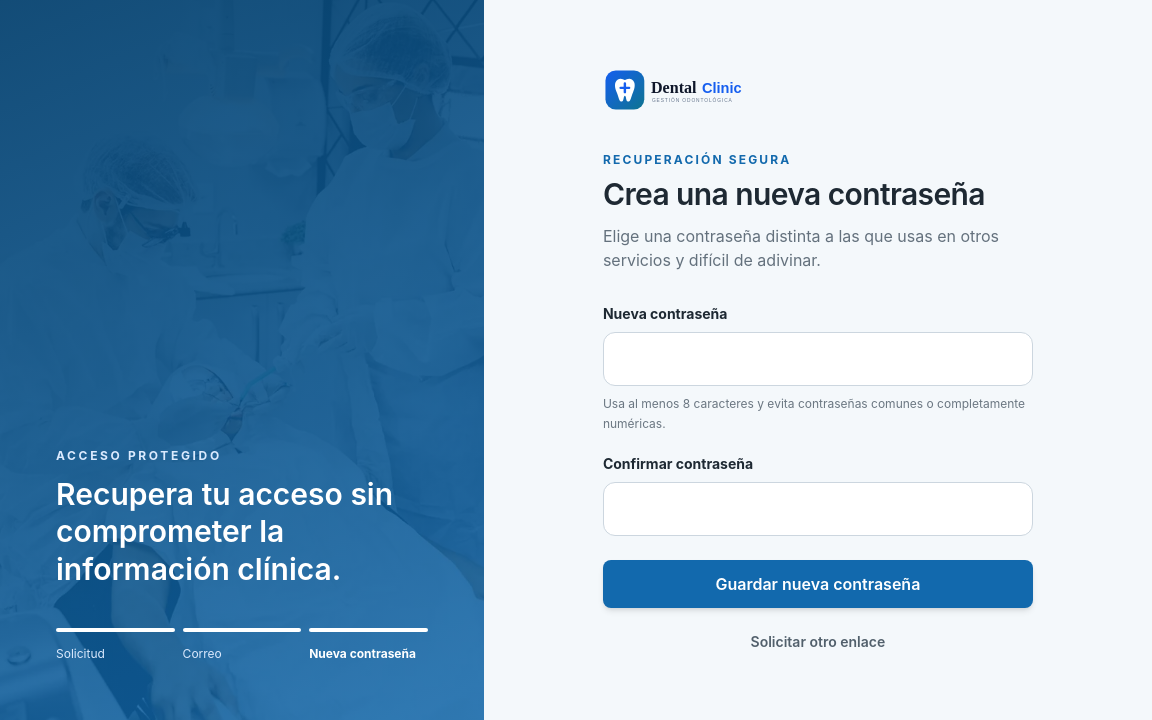
PasswordResetConfirmPage › shows a login action after resetting the password
The image size is (1152, 720).
Step 1. Type "NuevaContraseña123!" into the password field labelled "Nueva contraseña" → (818, 359), box [603, 332, 1033, 386]
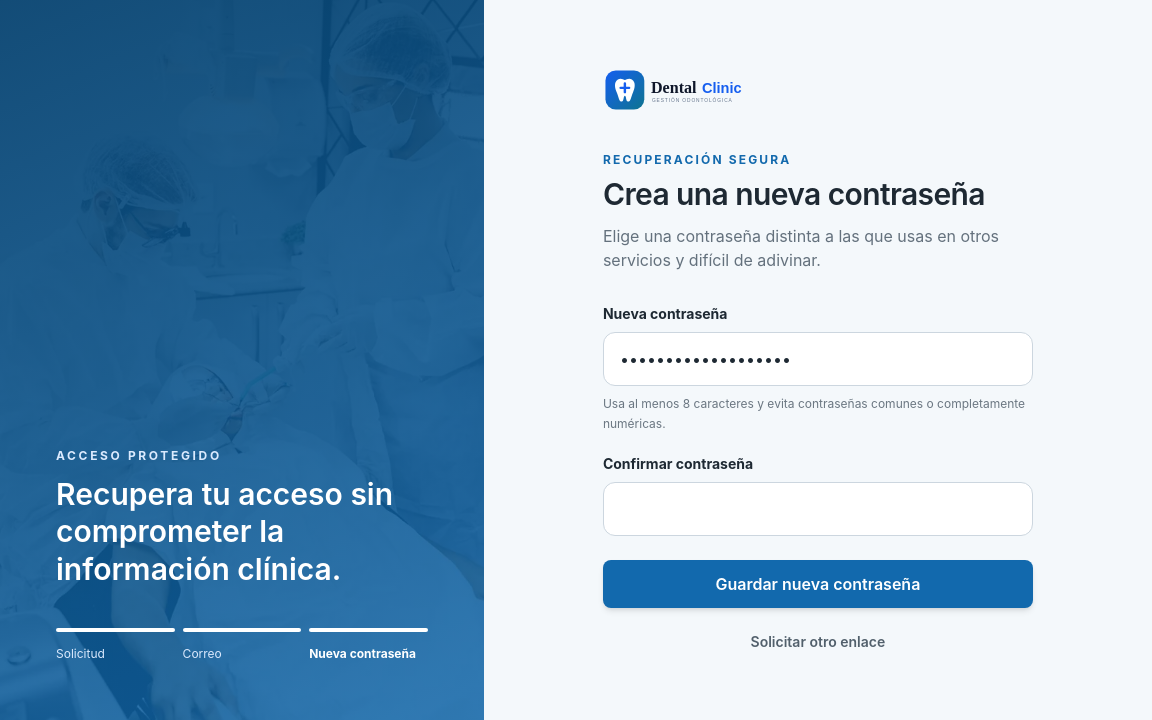
Step 2. Type "NuevaContraseña123!" into the password field labelled "Confirmar contraseña" → (818, 509), box [603, 482, 1033, 536]
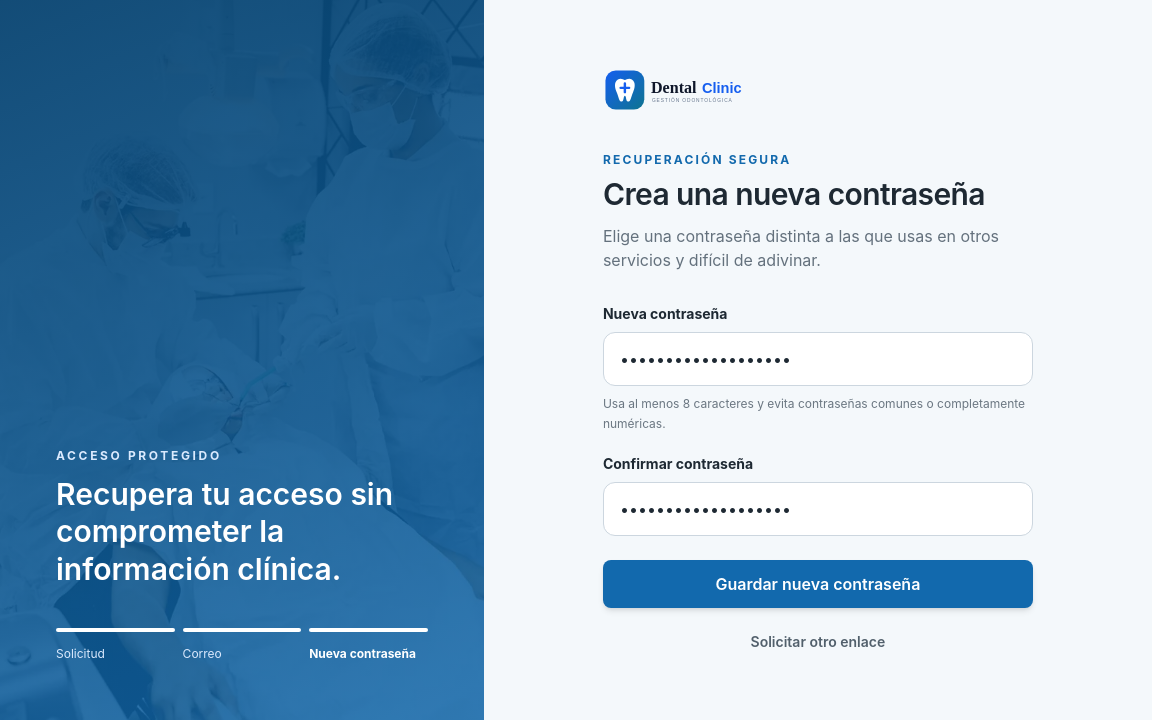
Step 3. Click the button "Guardar nueva contraseña" → (818, 584), box [603, 560, 1033, 608]
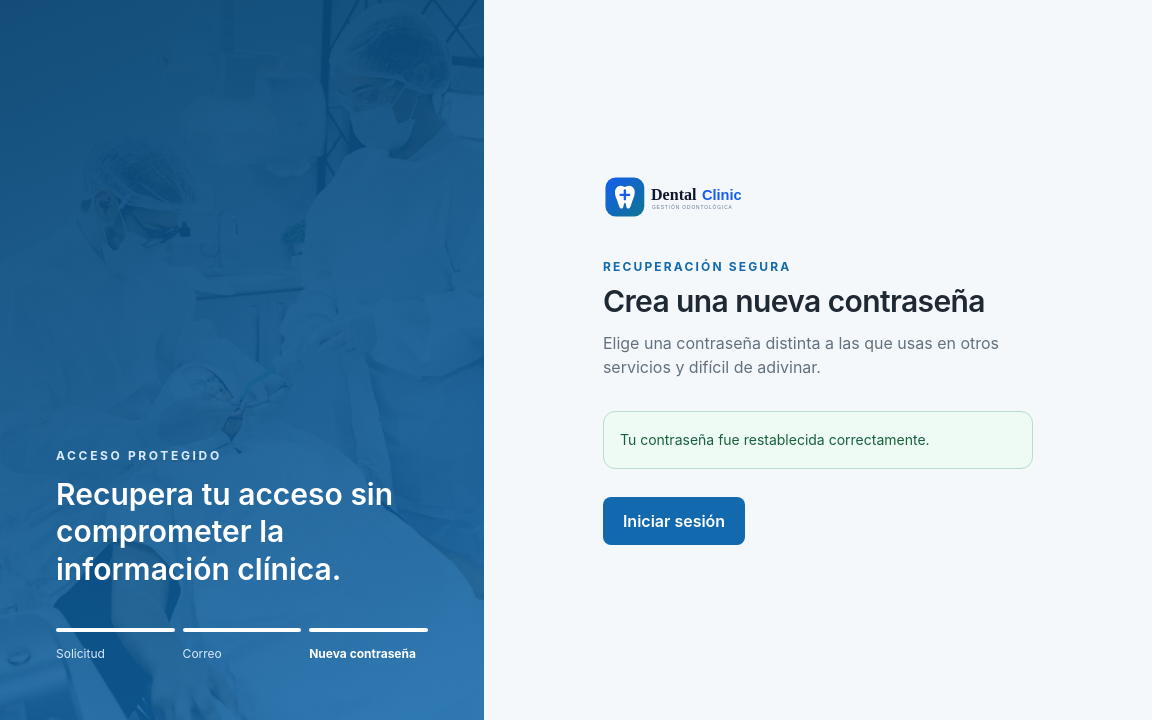
Now the message reads "Tu contraseña fue restablecida correctamente.", box [620, 431, 930, 448]
